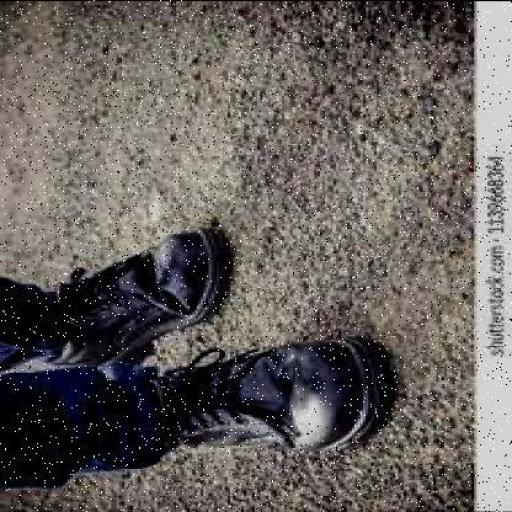safety_shoe: (160, 338, 385, 453), (49, 229, 227, 368)
